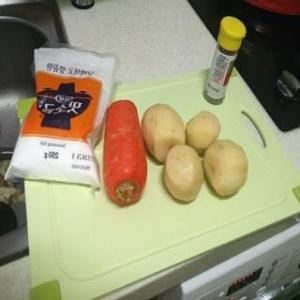carrot: (101, 98, 147, 208)
potato: (140, 102, 188, 166), (202, 138, 248, 199), (160, 145, 204, 205), (184, 111, 220, 155)
